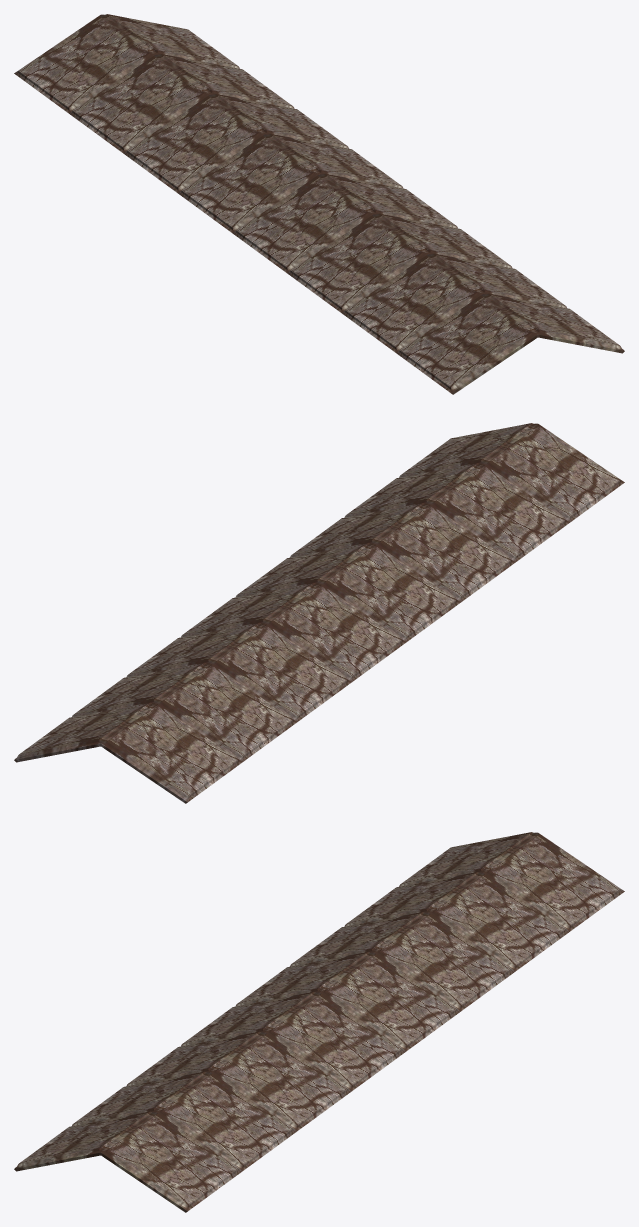
File: walkplane_angle15.FBX
3 views of the same model, one above another, from view 1: azimuth 30°, elevation 25°; view 2: azimuth 150°, elevation 25°; view 3: azimuth 330°, elevation 25° (orthographic).
Parts seen in each view (by area): view 1: walkplane_angle15; view 2: walkplane_angle15; view 3: walkplane_angle15.
Boxes of the visible parts, box(x1,y1,x2,y2) form: walkplane_angle15: box(14, 14, 624, 394); walkplane_angle15: box(14, 423, 624, 803); walkplane_angle15: box(14, 832, 624, 1212).
Bounding box in the file's own units: 3.63 × 15.79 × 0.816.
